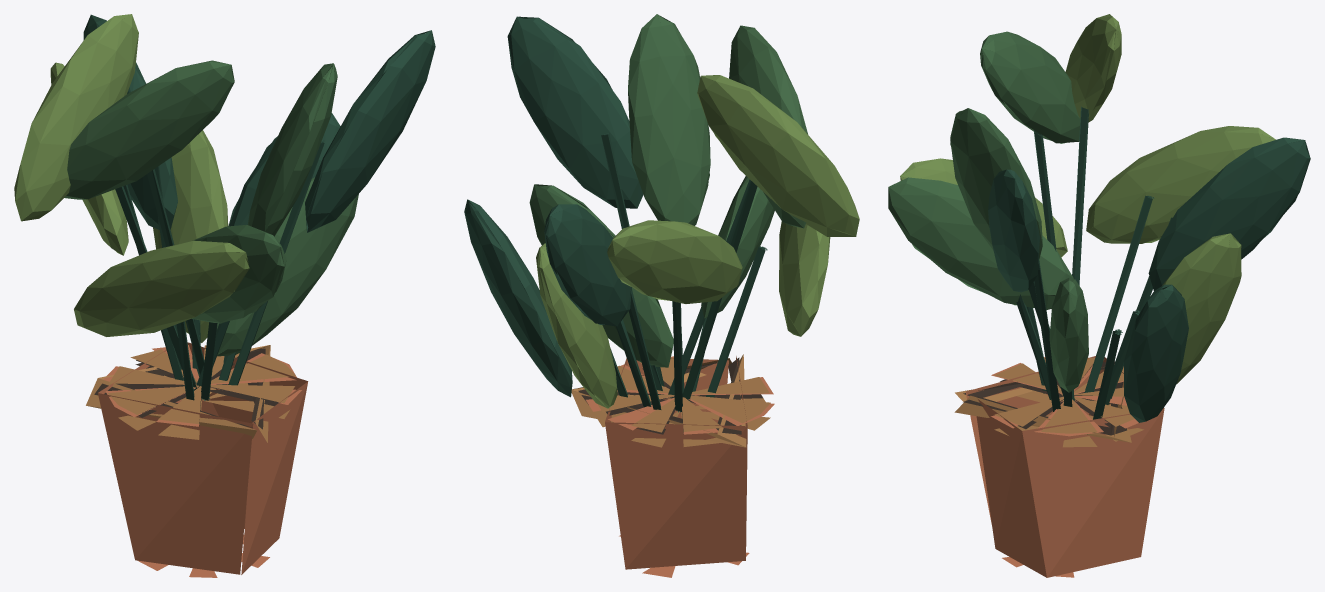
Rendered from good.glb.
The picture shows the model from 3 angles, left to right: view 1: azimuth 30°, elevation 25°; view 2: azimuth 150°, elevation 25°; view 3: azimuth 270°, elevation 25°; orthographic projection. The views are drawn at different scales.
Visible parts, largest first — view 1: Native component 18, Native component 14, Native component 0, Native component 10, Native component 1, Native component 2; view 2: Native component 10, Native component 18, Native component 14, Native component 0, Native component 1, Native component 2; view 3: Native component 10, Native component 14, Native component 0, Native component 18, Native component 1, Native component 2.
Part boxes in pixels (<box>): Native component 18: <box>14,14,249,342</box>; Native component 14: <box>64,60,358,356</box>; Native component 0: <box>98,342,308,577</box>; Native component 10: <box>83,14,435,400</box>; Native component 1: <box>86,345,295,442</box>; Native component 2: <box>94,348,278,429</box>; Native component 10: <box>464,16,767,412</box>; Native component 18: <box>536,75,859,408</box>; Native component 14: <box>529,14,808,367</box>; Native component 0: <box>586,356,774,577</box>; Native component 1: <box>571,354,770,447</box>; Native component 2: <box>578,357,762,434</box>; Native component 10: <box>988,106,1310,422</box>; Native component 14: <box>888,31,1088,392</box>; Native component 0: <box>965,356,1164,577</box>; Native component 18: <box>900,14,1275,384</box>; Native component 1: <box>954,357,1143,447</box>; Native component 2: <box>963,361,1126,435</box>.
Size of the model in its own units: 1.27 by 1.63 by 1.25.
